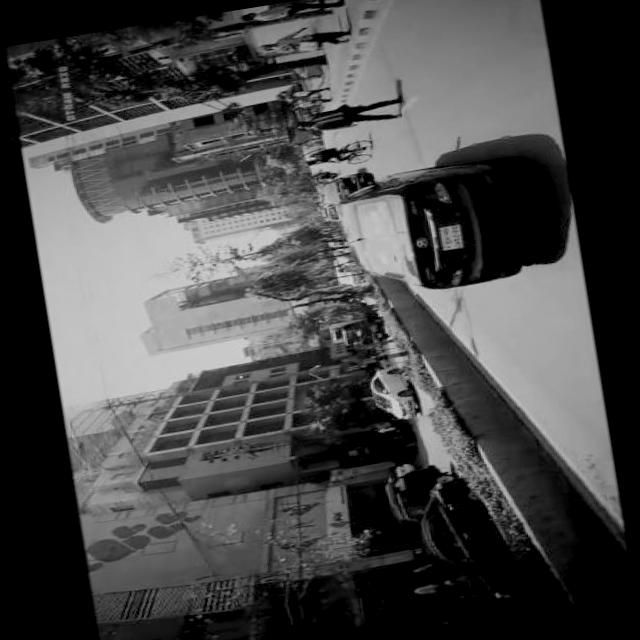car: (332, 153, 524, 302), (412, 469, 520, 609), (377, 460, 454, 530), (362, 363, 413, 422), (316, 172, 361, 204)
truck: (319, 298, 384, 349)
